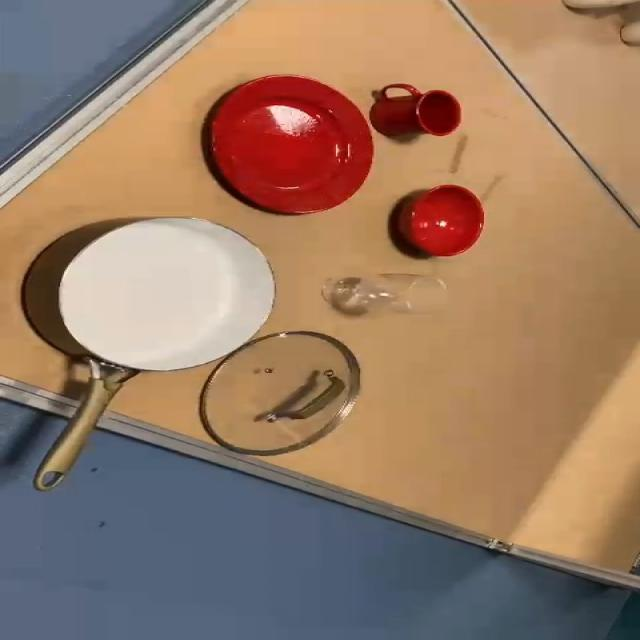Bowl: (398, 183, 485, 259)
Glass: (317, 270, 448, 320)
Plate: (207, 72, 375, 214)
cup: (374, 74, 464, 145)
pot: (28, 209, 287, 486)
